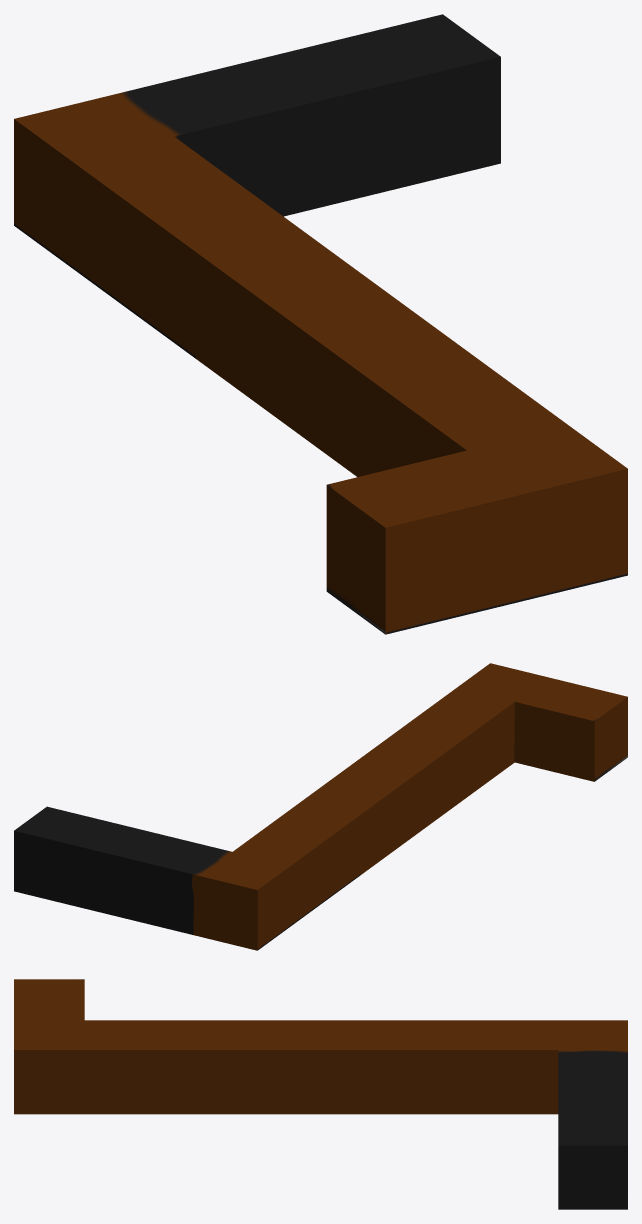
File: crank.glb
3 renders of one model, top to bottom at view 1: azimuth 30°, elevation 25°; view 2: azimuth 150°, elevation 25°; view 3: azimuth 270°, elevation 25°, orthographic. The views are drawn at different scales.
Parts seen in each view (by area): view 1: Cube; view 2: Cube; view 3: Cube.
Part boxes in pixels (x1,y1,x2,y2): Cube: (14,14,627,634); Cube: (14,663,627,950); Cube: (14,979,627,1209).
Size of the model in its own units: 2.19 by 0.3935 by 3.42.
1 material, 1 textured.
